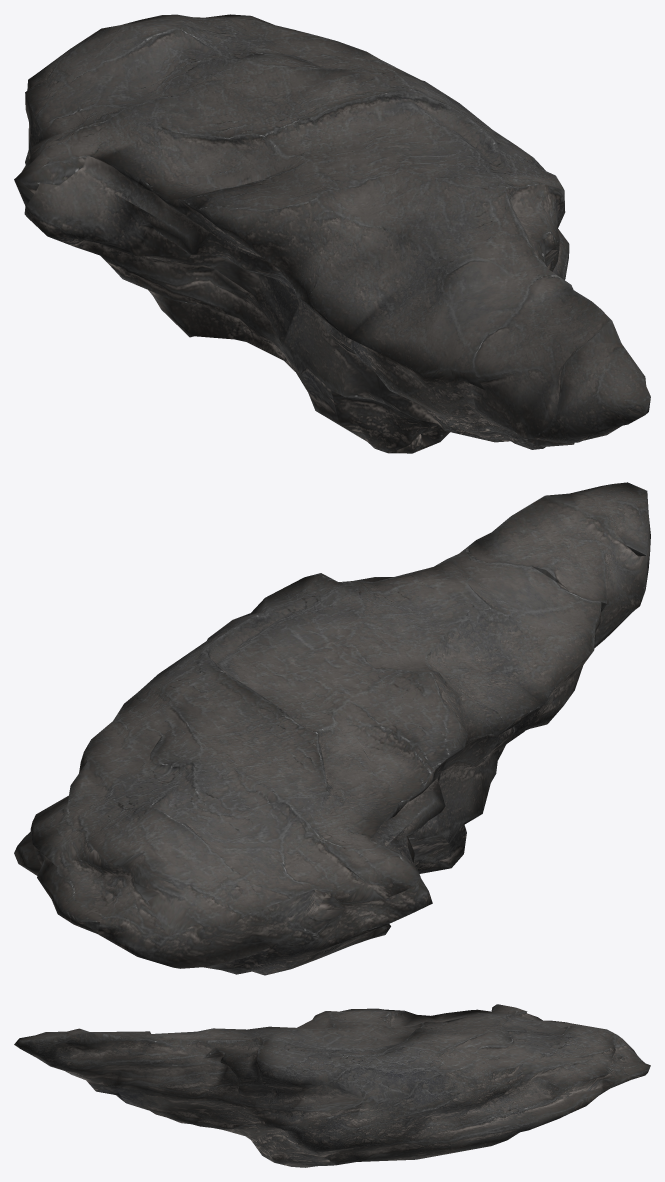
Rendered from Sharp_rock_01_GREY.fbx.
3 renders of one model, top to bottom at view 1: azimuth 30°, elevation 25°; view 2: azimuth 150°, elevation 25°; view 3: azimuth 270°, elevation 25°, orthographic. The views are drawn at different scales.
Visible parts, largest first — view 1: Sharp_rock_01_GREY; view 2: Sharp_rock_01_GREY; view 3: Sharp_rock_01_GREY.
Part boxes in pixels (x1,y1,x2,y2): Sharp_rock_01_GREY: (14, 14, 650, 453); Sharp_rock_01_GREY: (14, 482, 650, 975); Sharp_rock_01_GREY: (14, 1004, 650, 1167).
Size of the model in its own units: 3.19 by 2.02 by 8.1.
1 material, 1 textured.
